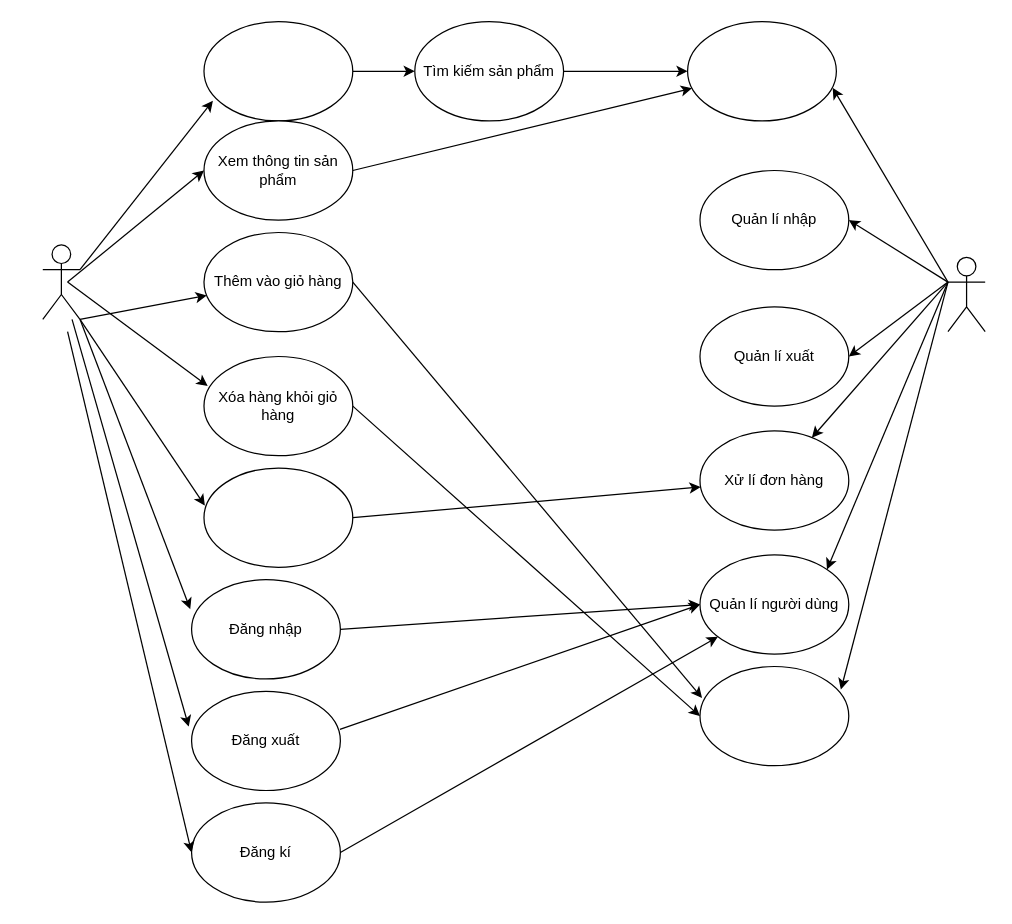
Some shapes in this 1012 by 924 pixel diagram are drawn without their labels. The centre of each missing label's shape, as x and y in pixels:
Chọn sản phẩm: point 278,70
Người dùng: point 61,281
Quản lí: point 966,294
Quản lí danh mục sản phẩm: point 761,70
Quản lí giỏ hàng: point 774,715
Thanh toán: point 278,517
